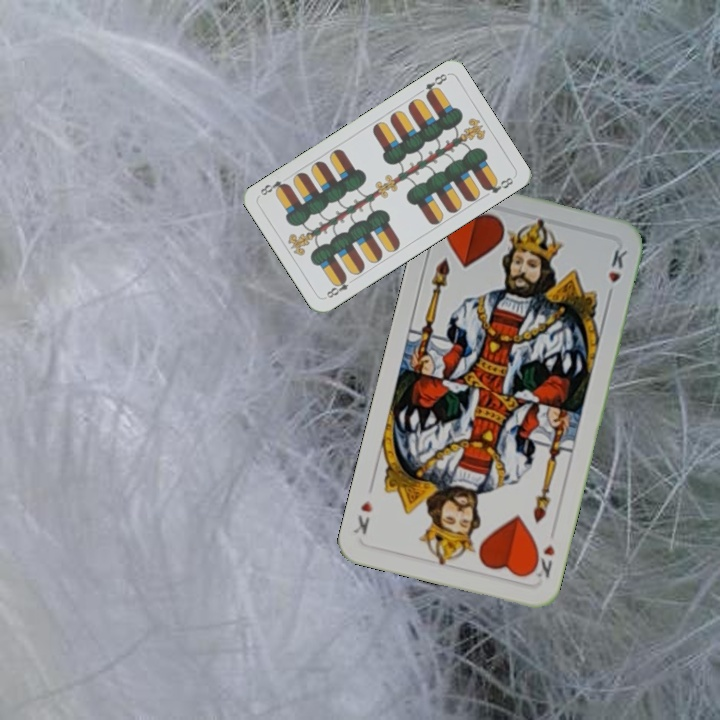E8: (321, 273, 358, 301), (421, 69, 450, 100)
HK: (527, 540, 558, 581)
